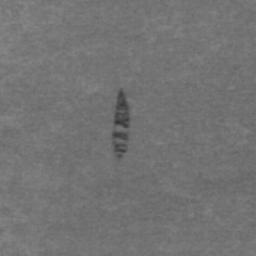Secondary rust skin: (111, 87, 131, 159)
